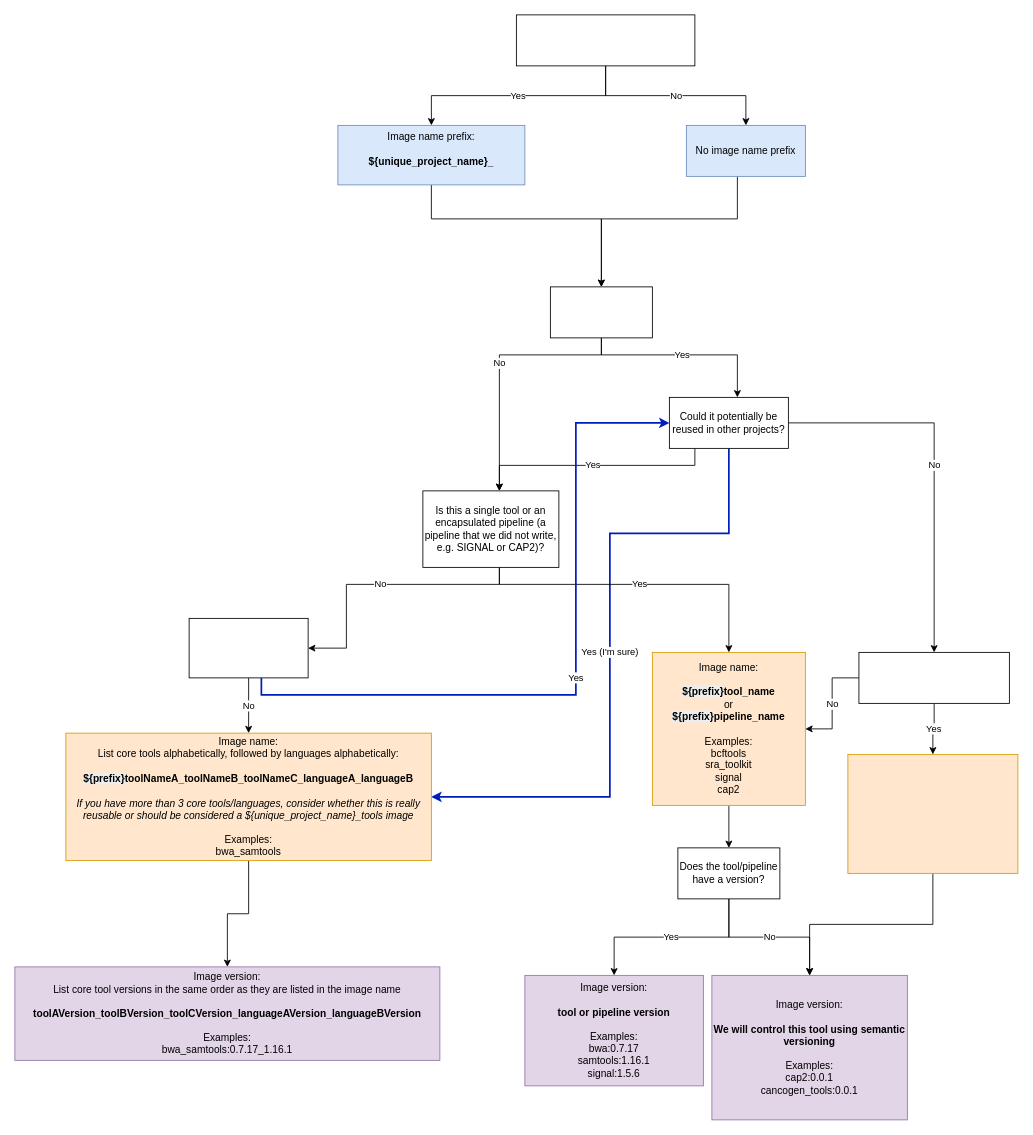
This 1033x1135 diagram has some shape labels left out. Here are the shapes that lost their labels. From the top down, the centre of each, then its label:
[605,40]: Is the image based on a ${unique_project_name}_tools image?
[601,312]: Does the image include custom scripts?
[248,648]: Are there more than 3 core tools/languages?
[933,677]: Are you sure? Even a full pipeline like CAP2 or SIGNAL could be reused
[932,813]: Image name: ${unique_project_name}_tools Examples: cancogen_tools
